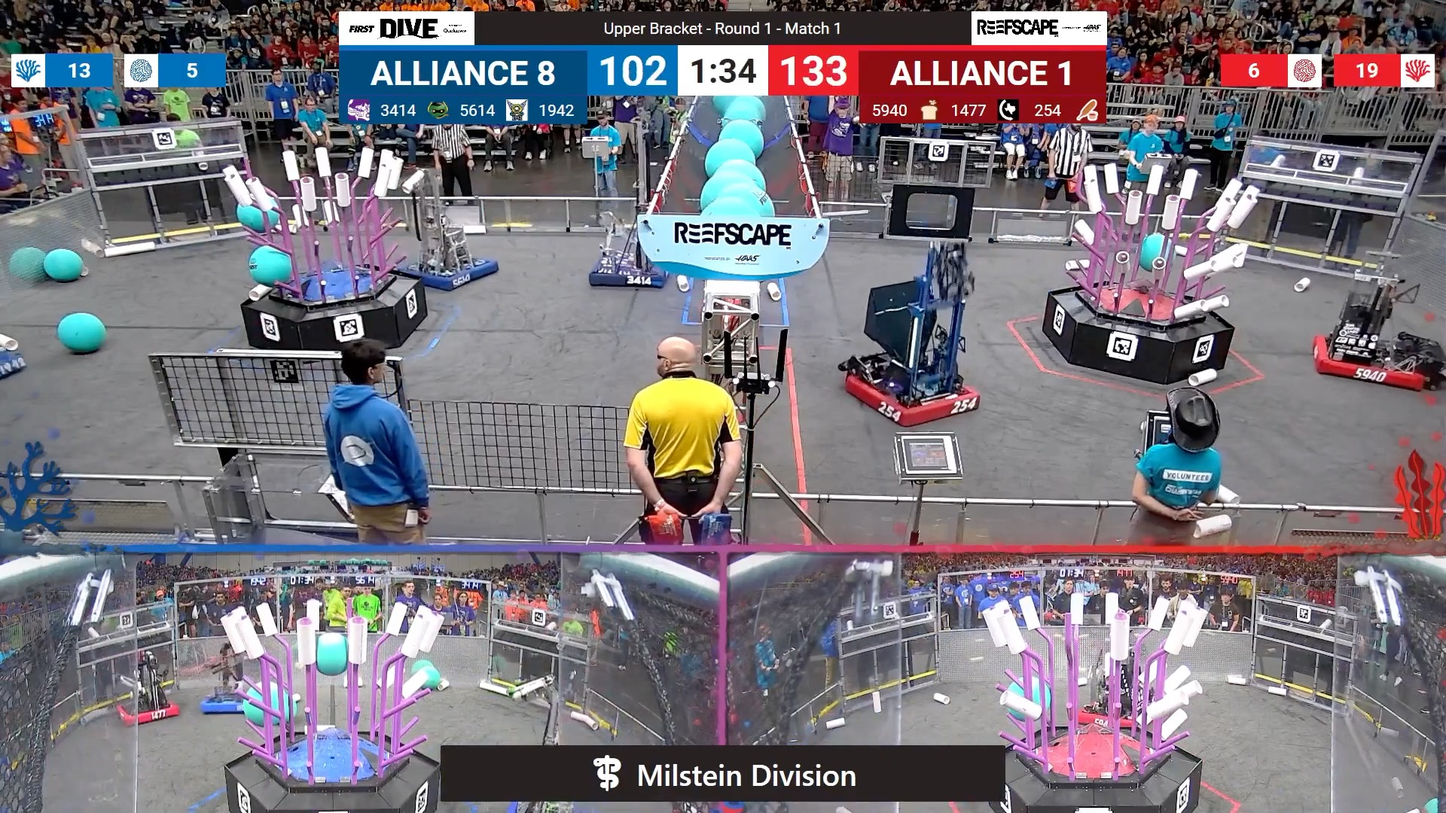bumpers: (832, 365, 989, 431), (1299, 329, 1441, 398), (393, 252, 508, 293), (587, 249, 674, 290), (112, 694, 190, 728), (199, 692, 262, 719), (0, 342, 31, 392)
